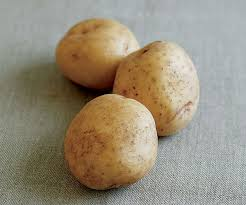potato: (62, 90, 160, 186), (115, 40, 200, 129), (54, 9, 133, 83)
